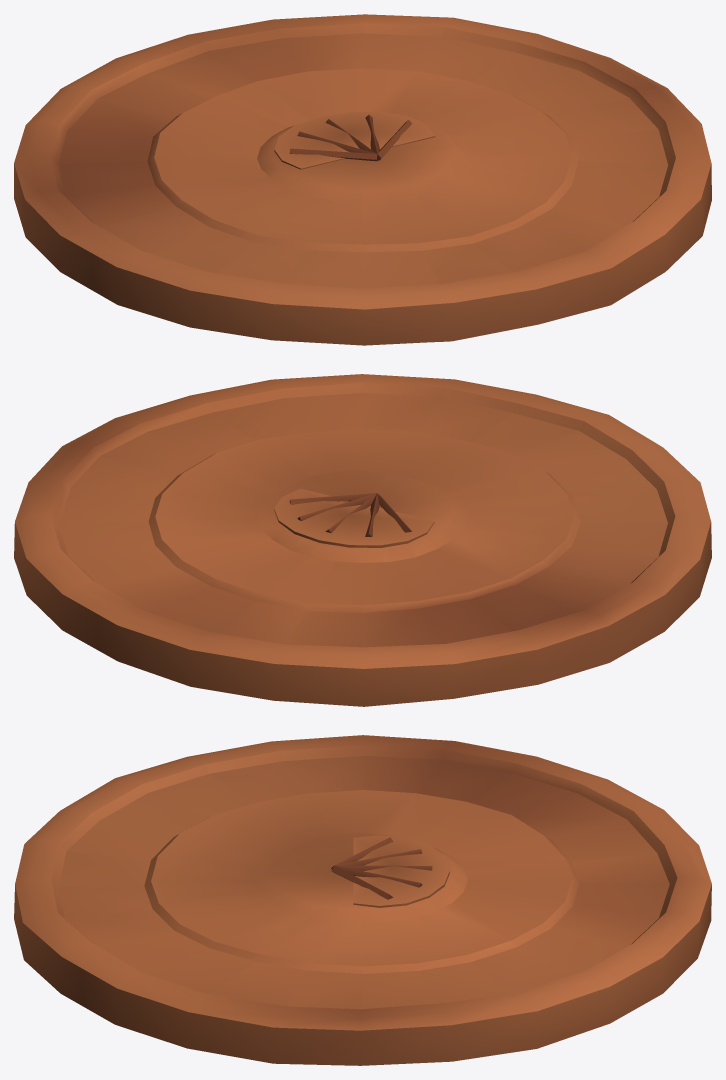
File: grotto_coin.glb
The picture shows the model from 3 angles, top to bottom: view 1: azimuth 30°, elevation 25°; view 2: azimuth 150°, elevation 25°; view 3: azimuth 270°, elevation 25°; orthographic projection.
Parts seen in each view (by area): view 1: grotto_coin; view 2: grotto_coin; view 3: grotto_coin.
Part boxes in pixels (x1,y1,x2,y2): grotto_coin: [14, 14, 711, 345]; grotto_coin: [14, 374, 711, 706]; grotto_coin: [14, 735, 711, 1065].
Size of the model in its own units: 5.51 by 0.5411 by 5.5.
